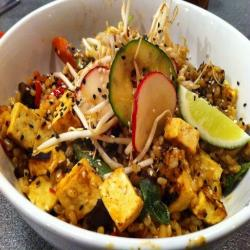rice: (22, 29, 243, 237)
